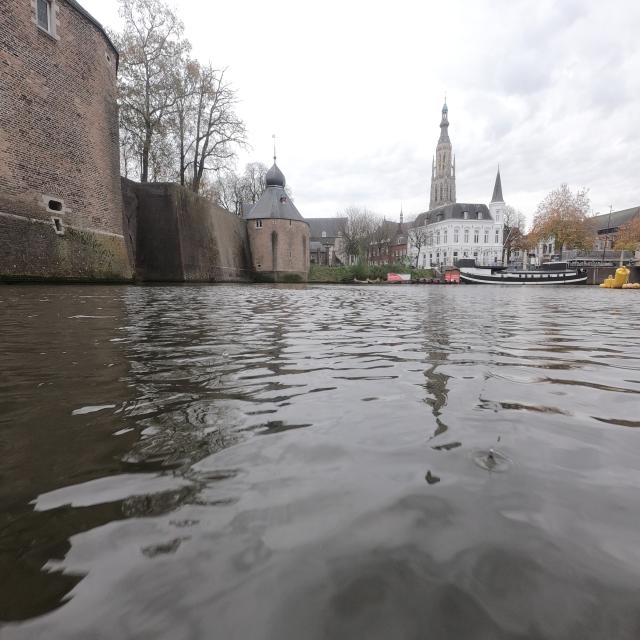boat: (454, 264, 590, 286)
grass: (308, 264, 435, 283)
sky: (170, 4, 638, 216)
tree: (530, 183, 593, 250)
wall: (0, 2, 120, 262), (124, 156, 306, 282), (585, 267, 615, 285), (566, 222, 567, 223)
water: (6, 290, 636, 634)
